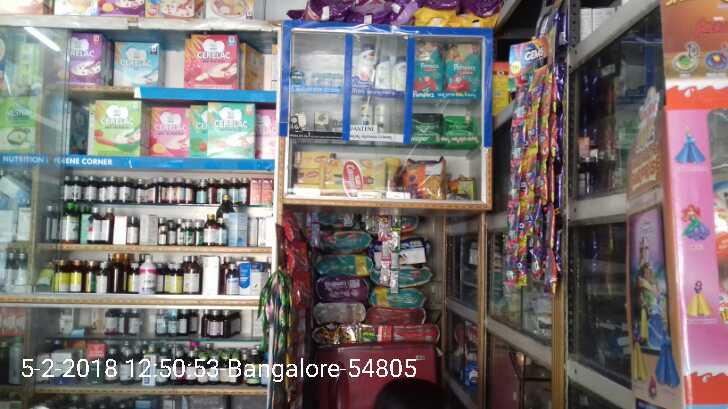beauty: (356, 45, 375, 91), (374, 97, 389, 139), (376, 55, 391, 90), (312, 109, 330, 136), (392, 54, 405, 88)
pharmacy: (444, 41, 477, 97), (413, 41, 444, 95), (441, 111, 476, 151), (409, 111, 440, 142), (311, 72, 346, 89)
